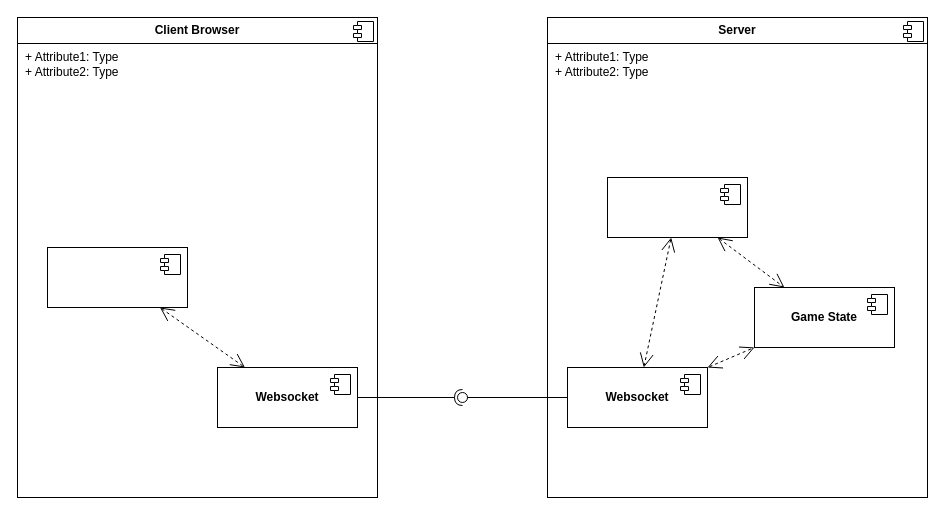
The diagram is 945 pixels wide and 515 high, and some of its shapes have lost their labels. Here are the shapes that lost their labels. From the top down, the centre of each, then its label:
At (677,207): "Game Logic".
At (117,277): "User Interface".
